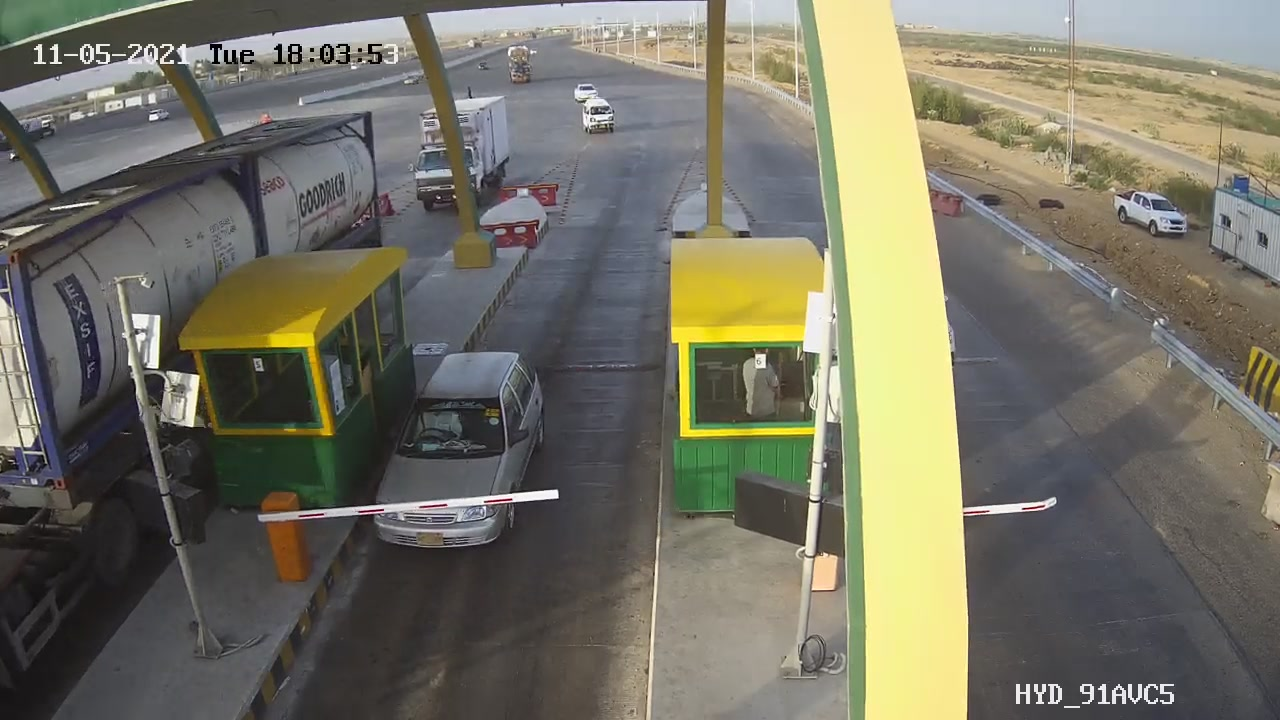F1: (360, 338, 563, 565)
